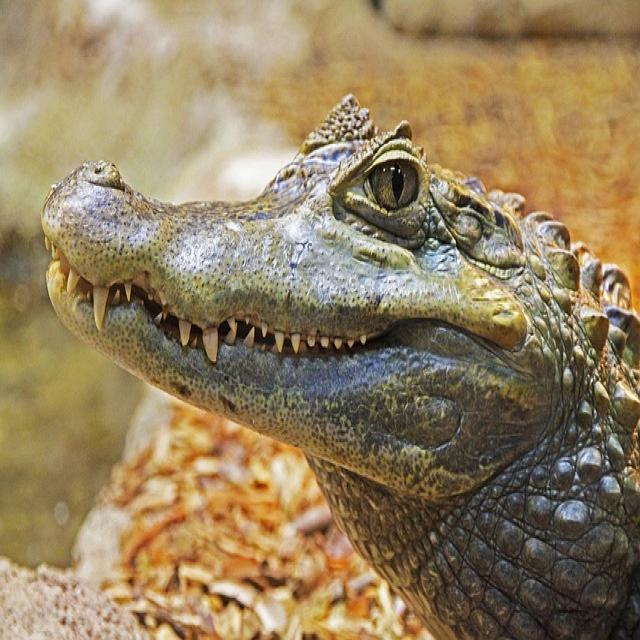Carnivorous: (40, 94, 640, 640)
